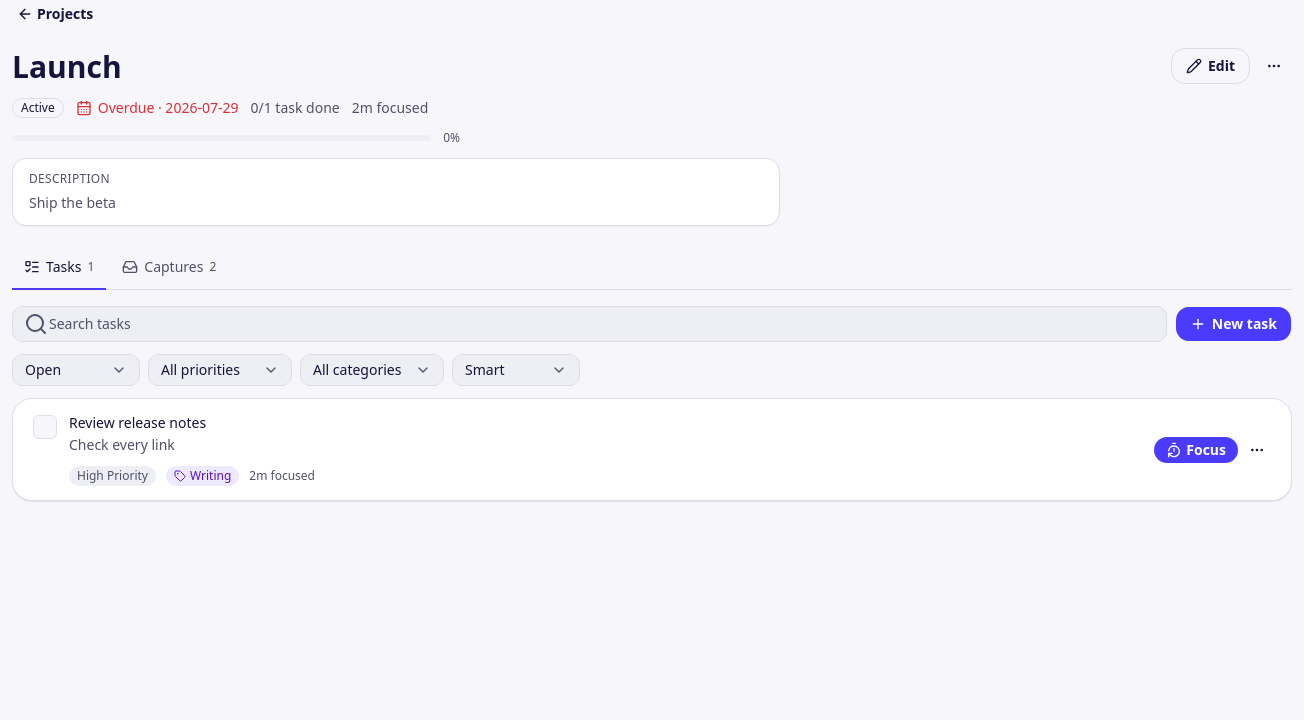
Test: ProjectDetailPage › switches between the Tasks and Captures tabs
Click the tab "Captures 2" at (169, 268), box [110,246,228,290]
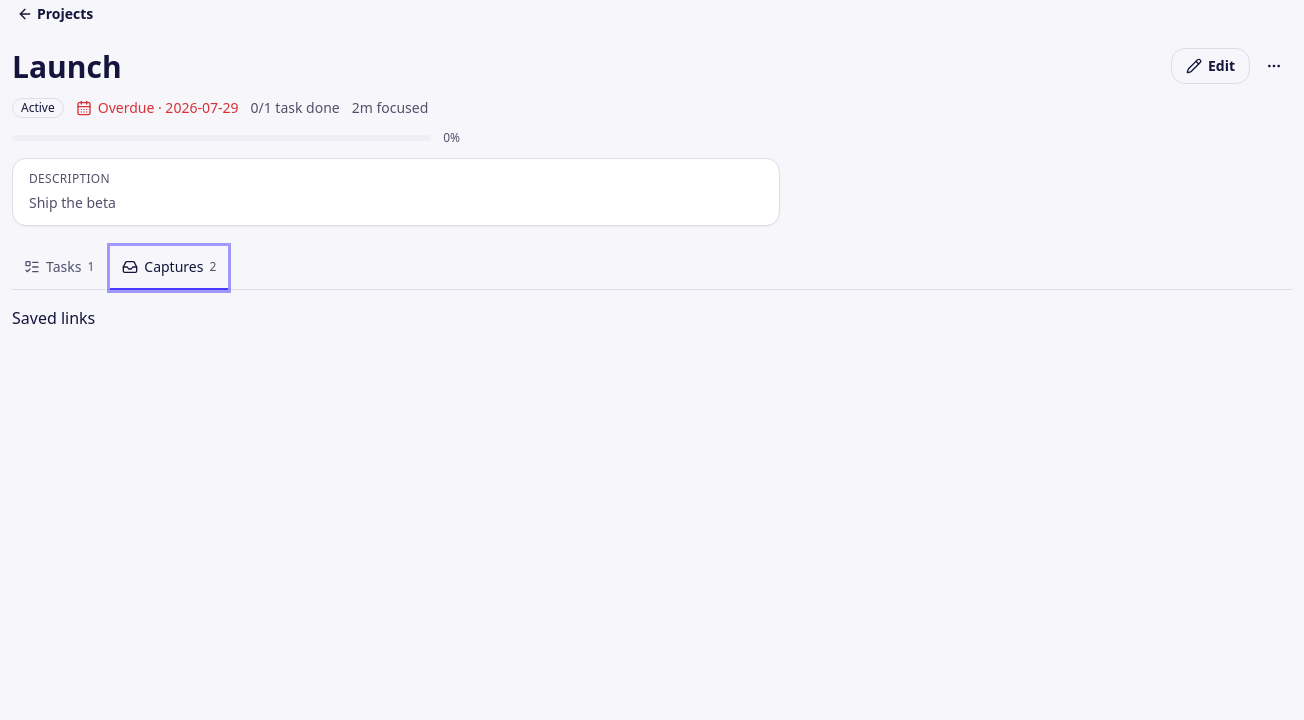
Check: the text "Saved links" is shown, box [12,306,95,328]
